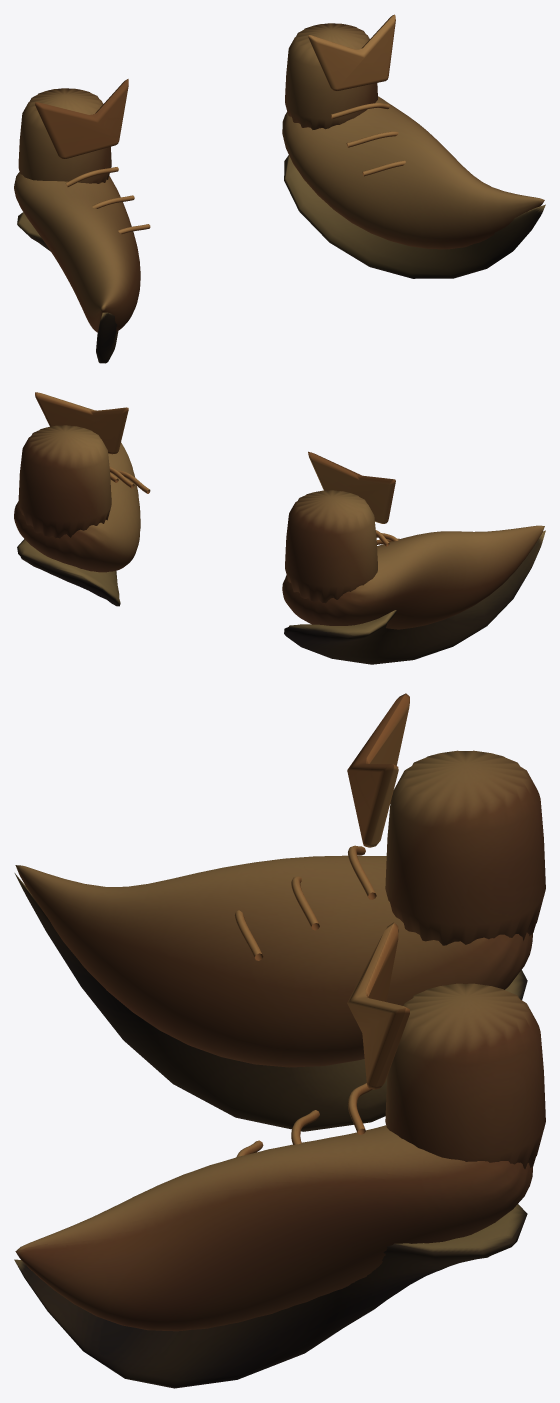
Rendered from 04_Shoes.fbx.
The picture shows the model from 3 angles, top to bottom: view 1: azimuth 30°, elevation 25°; view 2: azimuth 150°, elevation 25°; view 3: azimuth 270°, elevation 25°; orthographic projection. The views are drawn at different scales.
Parts seen in each view (by area): view 1: Shoe upper.L, Shoe upper.R, Shoe sole.L, Boot ankle.L, Boot ankle.R, Boot turned cuff.R, Boot turned cuff.L, Shoe sole.R; view 2: Shoe upper.R, Boot ankle.L, Boot ankle.R, Shoe sole.R, Shoe upper.L, Boot turned cuff.L, Boot turned cuff.R, Shoe sole.L; view 3: Shoe upper.L, Shoe upper.R, Boot ankle.R, Boot ankle.L, Shoe sole.L, Shoe sole.R, Boot turned cuff.L, Boot turned cuff.R.
Boxes of the visible parts, box(x1,y1,x2,y2) form: Shoe upper.L: box(282, 96, 544, 249); Shoe upper.R: box(14, 172, 140, 332); Shoe sole.L: box(284, 155, 545, 278); Boot ankle.L: box(285, 23, 377, 129); Boot ankle.R: box(18, 88, 111, 183); Boot turned cuff.R: box(35, 79, 128, 158); Boot turned cuff.L: box(308, 14, 395, 91); Shoe sole.R: box(17, 212, 118, 363); Shoe upper.R: box(282, 525, 544, 629); Boot ankle.L: box(18, 425, 111, 538); Boot ankle.R: box(285, 490, 377, 603); Shoe sole.R: box(284, 530, 545, 664); Shoe upper.L: box(14, 442, 140, 572); Boot turned cuff.L: box(35, 392, 128, 454); Boot turned cuff.R: box(308, 451, 395, 523); Shoe sole.L: box(17, 539, 120, 606); Shoe upper.L: box(15, 1125, 533, 1331); Shoe upper.R: box(15, 855, 532, 1067); Boot ankle.R: box(385, 750, 545, 945); Boot ankle.L: box(385, 983, 545, 1168); Shoe sole.L: box(14, 1204, 527, 1388); Shoe sole.R: box(14, 873, 527, 1131); Boot turned cuff.L: box(347, 922, 409, 1089); Boot turned cuff.R: box(347, 693, 409, 847).
Bounding box in the file's own units: 49.11 × 23.94 × 28.5.
1 material, 1 textured.
